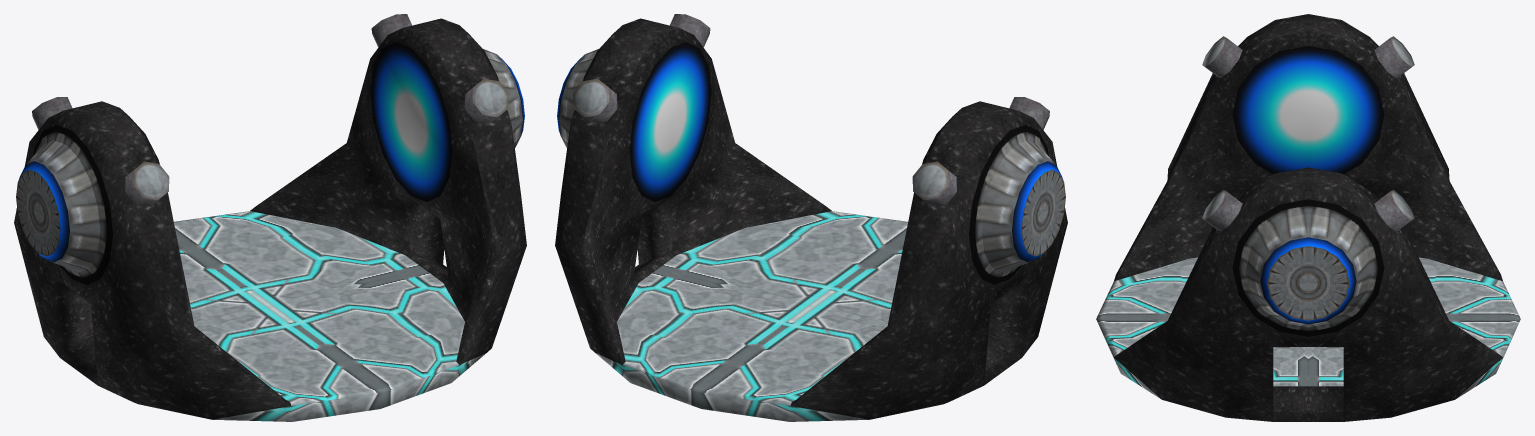
File: frameMedium.obj
3 views of the same model, side by side, from view 1: azimuth 30°, elevation 25°; view 2: azimuth 150°, elevation 25°; view 3: azimuth 270°, elevation 25° (orthographic). The views are drawn at different scales.
Parts seen in each view (by area): view 1: frameM_Cylinder.001_Cylinder.000; view 2: frameM_Cylinder.001_Cylinder.000; view 3: frameM_Cylinder.001_Cylinder.000.
Boxes of the visible parts, x1=… form: frameM_Cylinder.001_Cylinder.000: x1=14, y1=14, x2=526, y2=421; frameM_Cylinder.001_Cylinder.000: x1=555, y1=14, x2=1067, y2=421; frameM_Cylinder.001_Cylinder.000: x1=1096, y1=14, x2=1520, y2=421.
Size of the model in its own units: 1.27 by 0.6746 by 1.09.
1 material, 1 textured.
